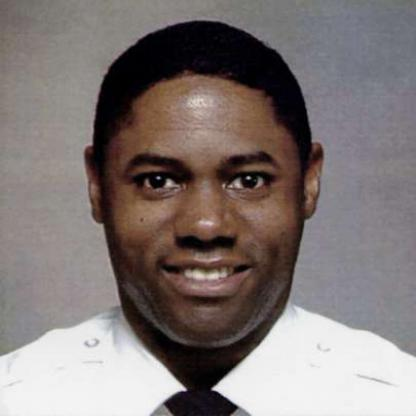face: (101, 24, 308, 350)
